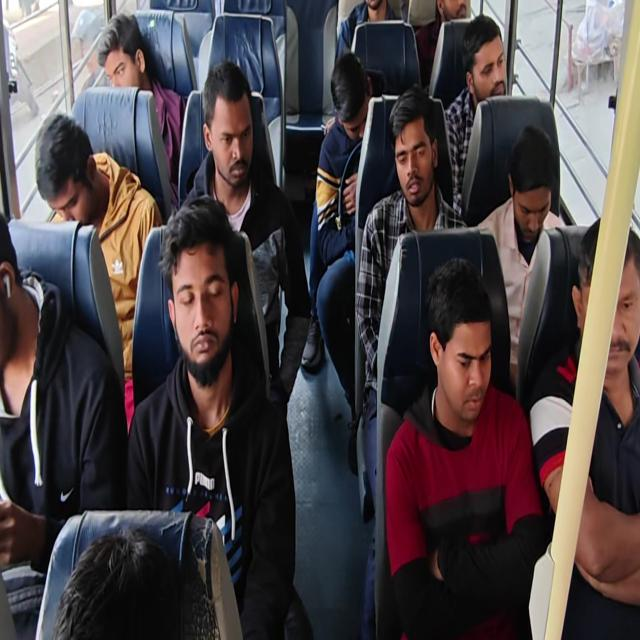person: (45, 514, 199, 640), (157, 192, 248, 385), (428, 271, 504, 432), (573, 218, 640, 387), (505, 123, 570, 267), (196, 56, 263, 187), (34, 104, 101, 229), (0, 191, 42, 375), (388, 97, 441, 208), (91, 13, 152, 100), (326, 56, 379, 136), (462, 18, 510, 106), (360, 2, 400, 26), (432, 0, 476, 20)
